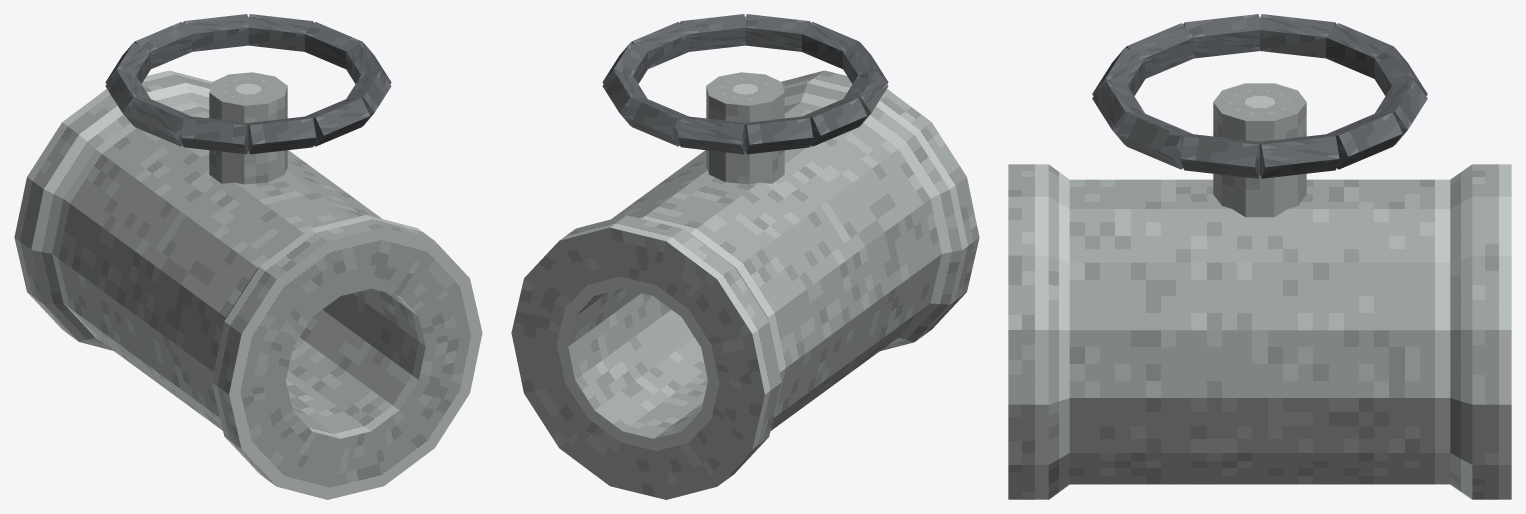
File: hd_valve.glb
The picture shows the model from 3 angles, left to right: view 1: azimuth 30°, elevation 25°; view 2: azimuth 150°, elevation 25°; view 3: azimuth 270°, elevation 25°; orthographic projection. The views are drawn at different scales.
Visible parts, largest first — view 1: block_thick-bore pipe, block_valve stem, block_valve hand wheel3, block_valve hand wheel4, block_valve hand wheel9, block_valve hand wheel10, block_valve hand wheel2, block_valve hand wheel5, block_valve hand wheel8, block_valve hand wheel11, block_valve hand wheel1, block_valve hand wheel6 (+2 smaller); view 2: block_thick-bore pipe, block_valve stem, block_valve hand wheel7, block_valve hand wheel8, block_valve hand wheel1, block_valve hand wheel2, block_valve hand wheel6, block_valve hand wheel9, block_valve hand wheel0, block_valve hand wheel3, block_valve hand wheel5, block_valve hand wheel10 (+2 smaller); view 3: block_thick-bore pipe, block_valve stem, block_valve hand wheel0, block_valve hand wheel11, block_valve hand wheel5, block_valve hand wheel6, block_valve hand wheel1, block_valve hand wheel10, block_valve hand wheel4, block_valve hand wheel7, block_valve hand wheel2, block_valve hand wheel9 (+2 smaller).
Part boxes in pixels (x1,y1,x2,y2): block_thick-bore pipe: [14, 70, 482, 499]; block_valve stem: [209, 72, 287, 184]; block_valve hand wheel3: [248, 116, 316, 154]; block_valve hand wheel4: [180, 116, 248, 154]; block_valve hand wheel9: [183, 14, 248, 51]; block_valve hand wheel10: [248, 14, 313, 51]; block_valve hand wheel2: [305, 98, 369, 146]; block_valve hand wheel5: [127, 98, 191, 146]; block_valve hand wheel8: [134, 22, 191, 68]; block_valve hand wheel11: [305, 22, 362, 68]; block_valve hand wheel1: [346, 70, 391, 125]; block_valve hand wheel6: [105, 70, 150, 125]; block_thick-bore pipe: [511, 70, 979, 499]; block_valve stem: [706, 72, 784, 184]; block_valve hand wheel7: [745, 116, 813, 154]; block_valve hand wheel8: [677, 116, 745, 154]; block_valve hand wheel1: [680, 14, 745, 51]; block_valve hand wheel2: [745, 14, 810, 51]; block_valve hand wheel6: [802, 98, 866, 146]; block_valve hand wheel9: [624, 98, 688, 146]; block_valve hand wheel0: [631, 22, 688, 68]; block_valve hand wheel3: [802, 22, 859, 68]; block_valve hand wheel5: [843, 70, 888, 125]; block_valve hand wheel10: [602, 70, 647, 125]; block_thick-bore pipe: [1008, 164, 1511, 499]; block_valve stem: [1213, 83, 1306, 217]; block_valve hand wheel0: [1180, 134, 1259, 178]; block_valve hand wheel11: [1260, 134, 1339, 178]; block_valve hand wheel5: [1183, 14, 1259, 58]; block_valve hand wheel6: [1260, 14, 1336, 58]; block_valve hand wheel1: [1117, 112, 1193, 169]; block_valve hand wheel10: [1326, 112, 1402, 169]; block_valve hand wheel4: [1126, 23, 1193, 78]; block_valve hand wheel7: [1326, 23, 1393, 78]; block_valve hand wheel2: [1092, 80, 1144, 145]; block_valve hand wheel9: [1375, 80, 1427, 145].
Bounding box in the file's own units: 0.1632 × 0.2121 × 0.2394.
2 materials, 2 textured.
